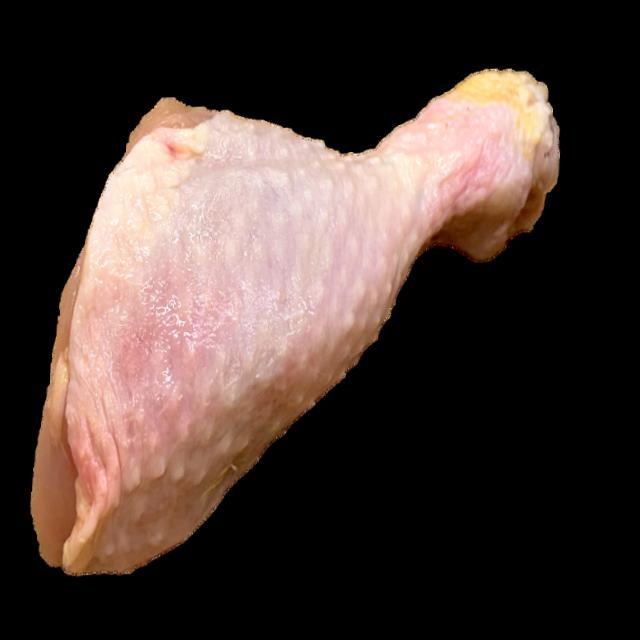leg: (36, 63, 572, 588)
